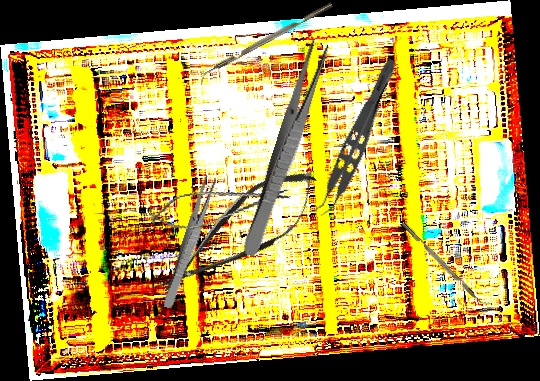Chopper: (195, 2, 337, 85), (401, 218, 491, 310)
Dressing Forceps: (240, 37, 332, 260), (161, 174, 219, 311)
Micro Scissor: (146, 154, 333, 313), (145, 174, 294, 237)
Tissue Forceps: (308, 52, 401, 222)
